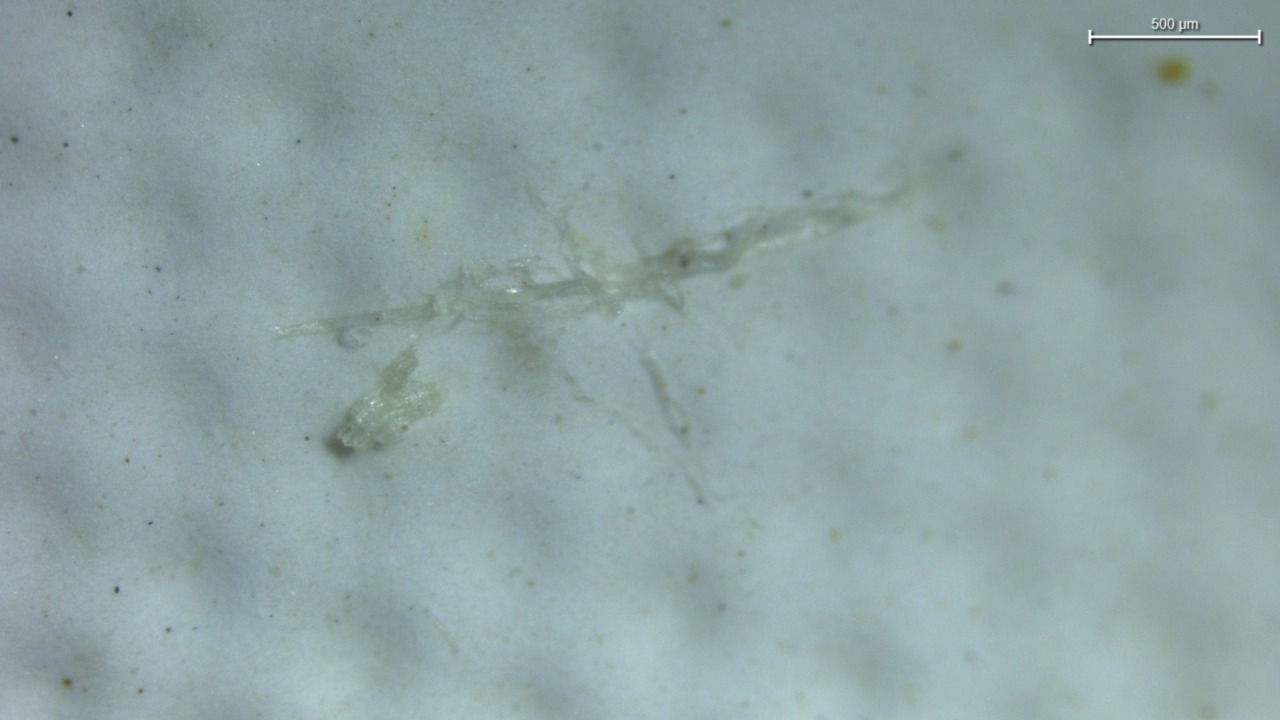microplastic_fragment: (337, 341, 442, 451)
